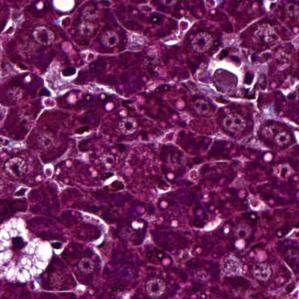ballooning: (0, 214, 55, 285)
